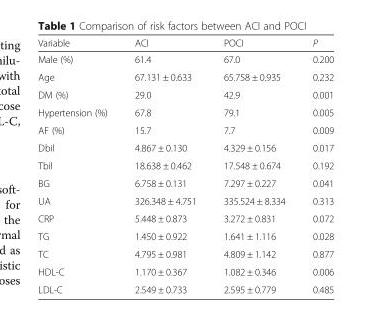table: (37, 36, 333, 294)
table column: (120, 36, 209, 294), (209, 36, 298, 294), (37, 36, 120, 294), (298, 36, 333, 294)
table column header: (37, 36, 333, 50)
table row: (37, 67, 333, 85), (37, 85, 333, 103), (37, 120, 333, 138), (37, 138, 333, 156), (37, 173, 333, 191), (37, 191, 333, 209), (37, 209, 333, 227), (37, 244, 333, 262), (37, 262, 333, 280), (37, 50, 333, 67), (37, 103, 333, 120), (37, 156, 333, 173), (37, 227, 333, 244), (37, 36, 333, 50), (37, 280, 333, 294)
